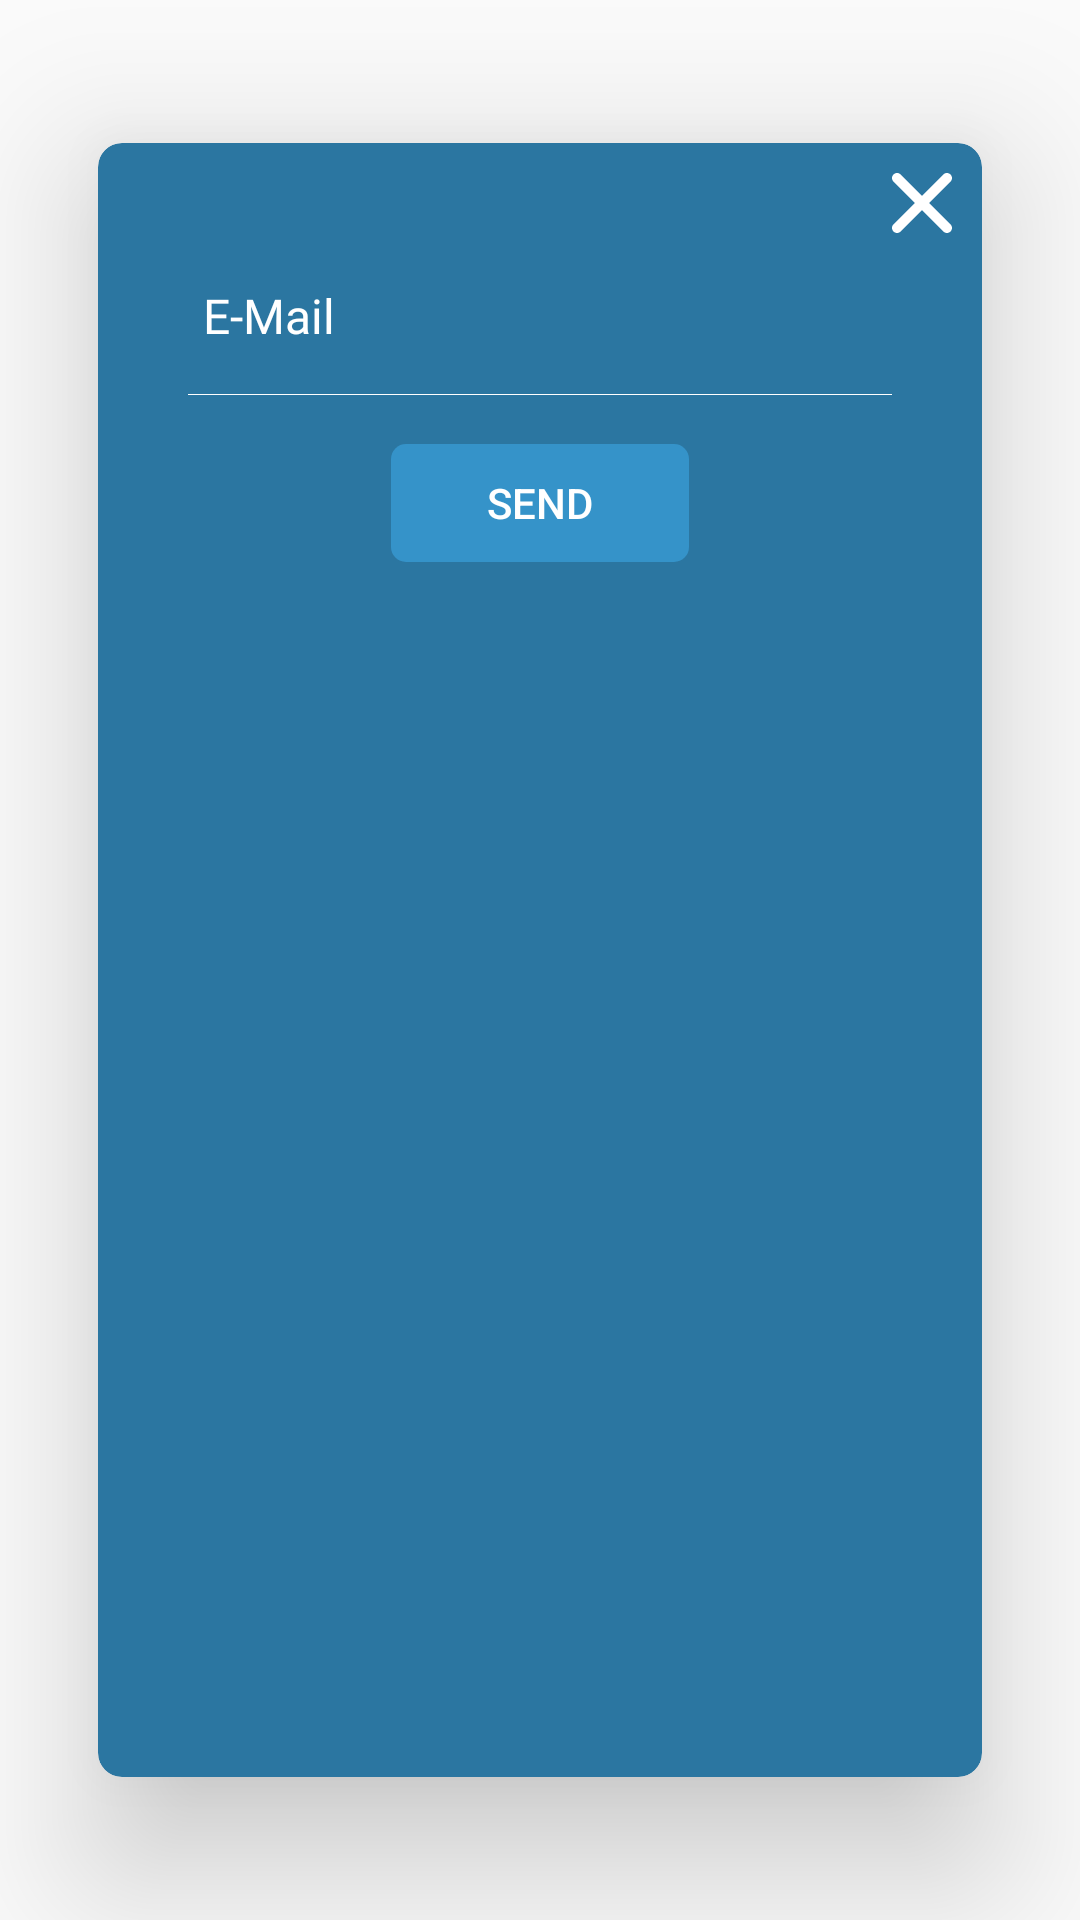

Named icons in this screenshot (1080px×1920px) and their centers, (x,y):
cancel: (922,203)
